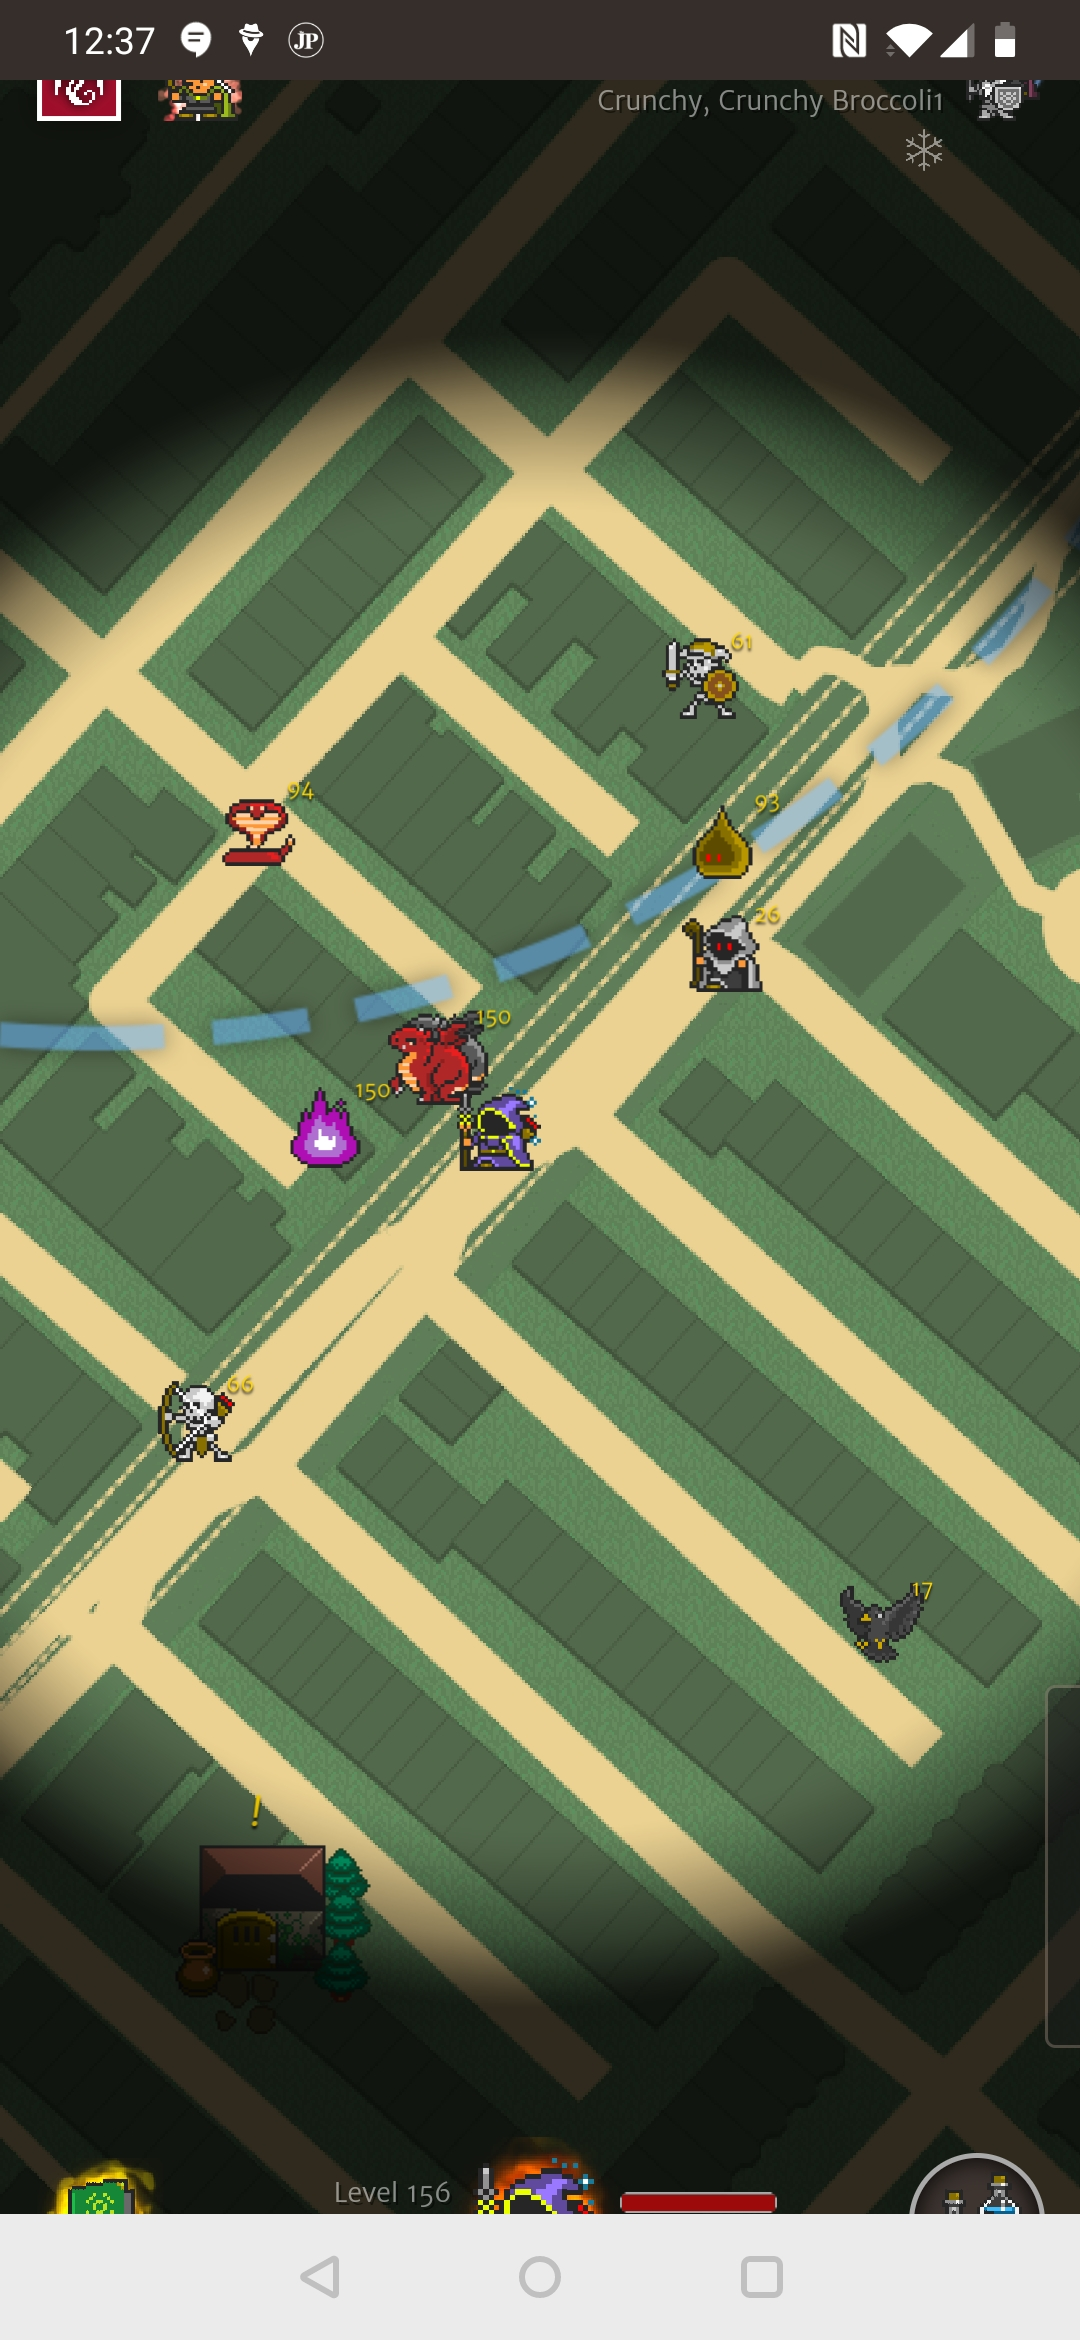monster: (829, 1568, 950, 1678), (143, 1368, 263, 1478), (674, 906, 788, 1013), (653, 620, 760, 727), (205, 778, 319, 875), (284, 1078, 395, 1171), (677, 792, 784, 885)
player: (446, 1078, 539, 1189)
